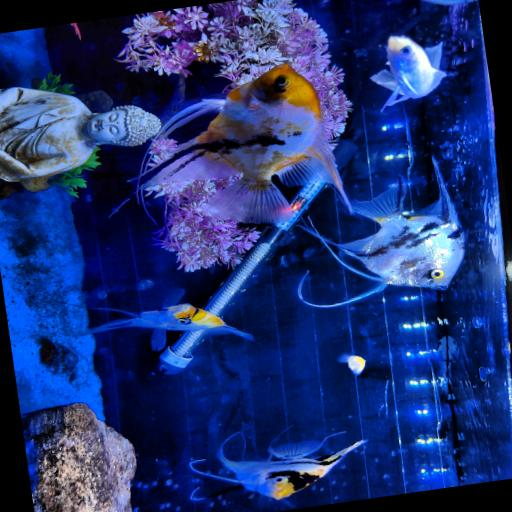Fish: (141, 64, 349, 222), (297, 157, 464, 306), (189, 435, 365, 499), (75, 289, 251, 349), (370, 35, 445, 110), (337, 354, 364, 374), (71, 23, 80, 38)
